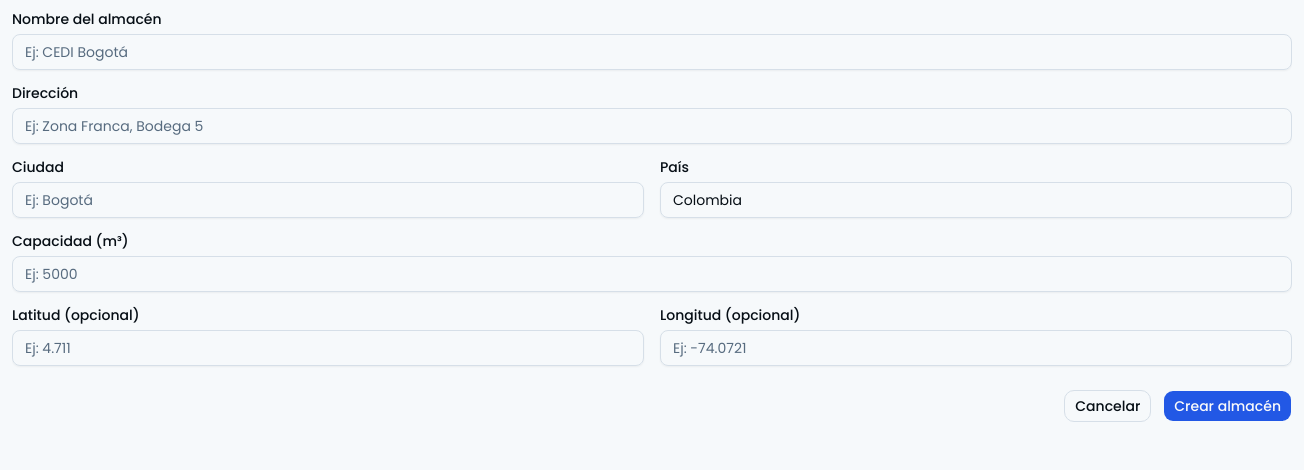
it: WarehouseForm — validación › muestra error 'La capacidad debe ser mayor a 0' con valor 0
Type "X" into the field labelled "Nombre del almacén" at (652, 52), box 12,34 -> 1292,70
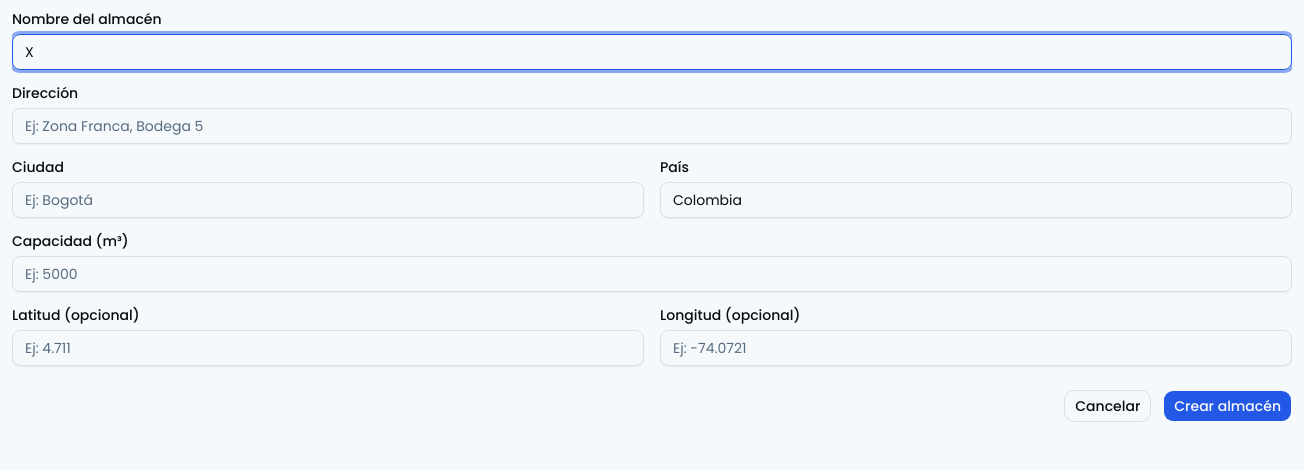
Type "X" into the field labelled "Dirección" at (652, 126), box 12,108 -> 1292,144
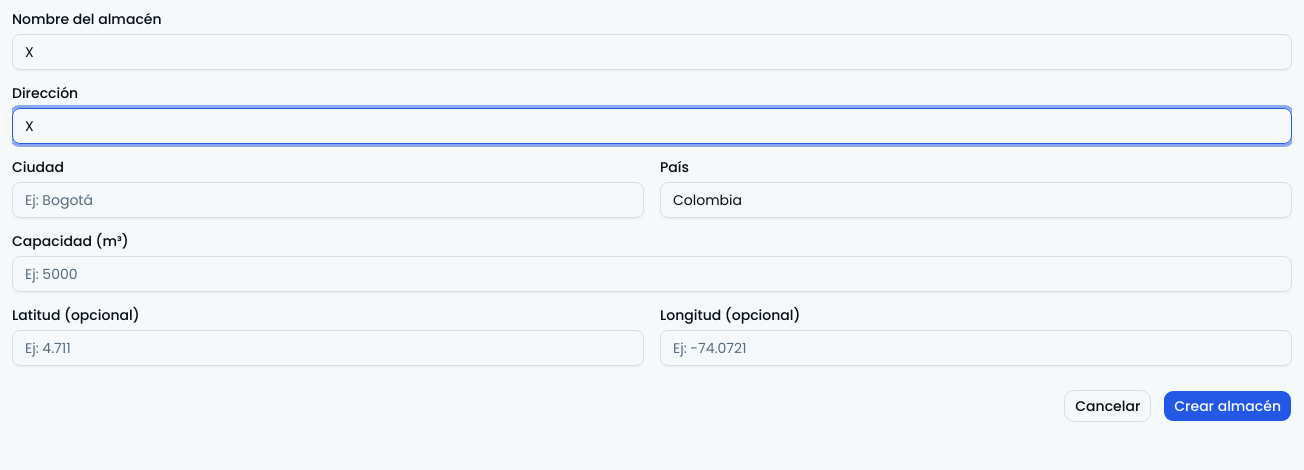
Type "X" into the field labelled "Ciudad" at (328, 200), box 12,182 -> 644,218
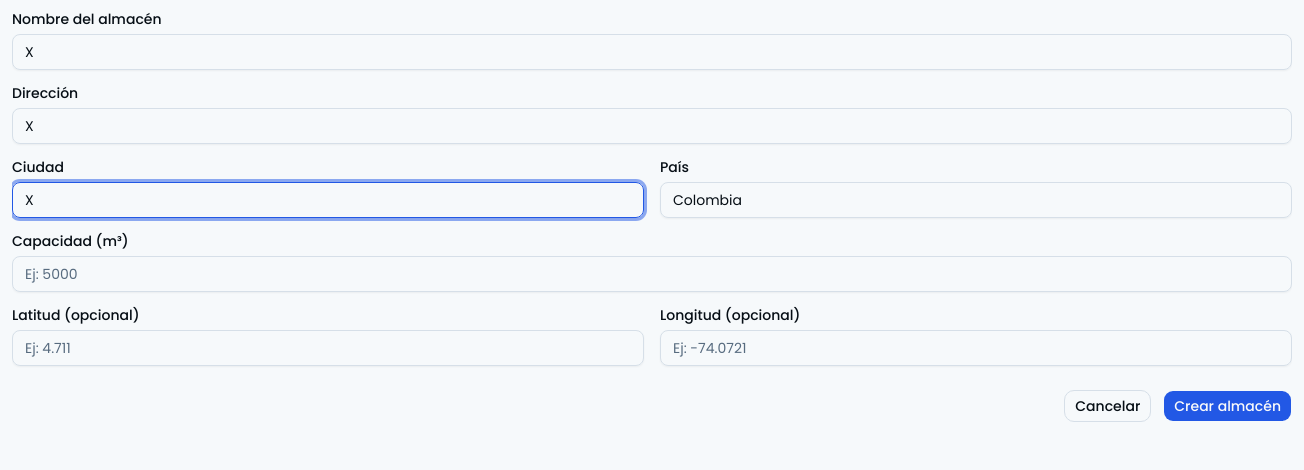
Type "0" into the number field labelled "Capacidad (m³)" at (652, 274), box 12,256 -> 1292,292
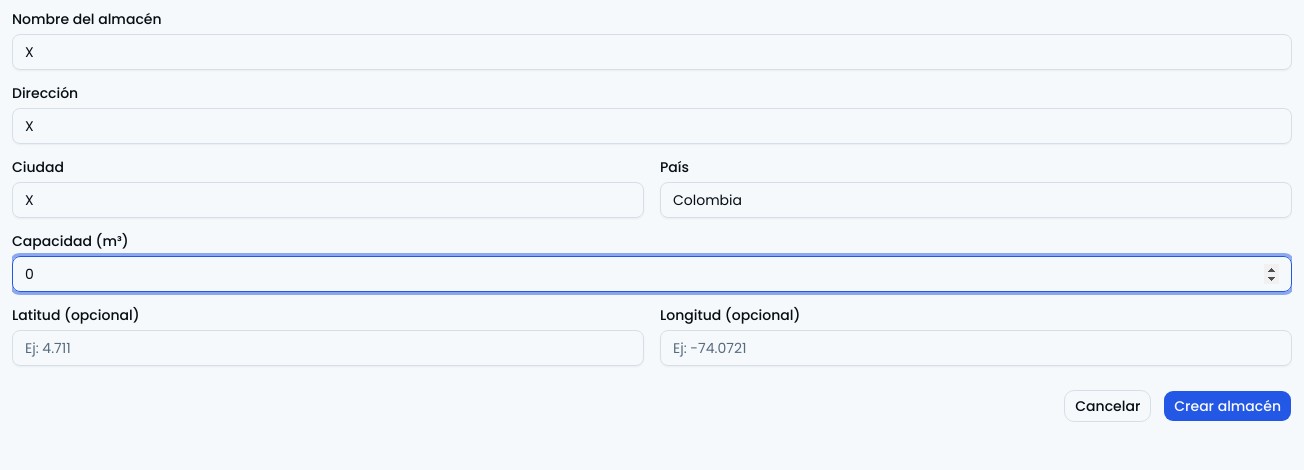
Click the button "Crear almacén" at (1228, 406), box 1163,390 -> 1292,422
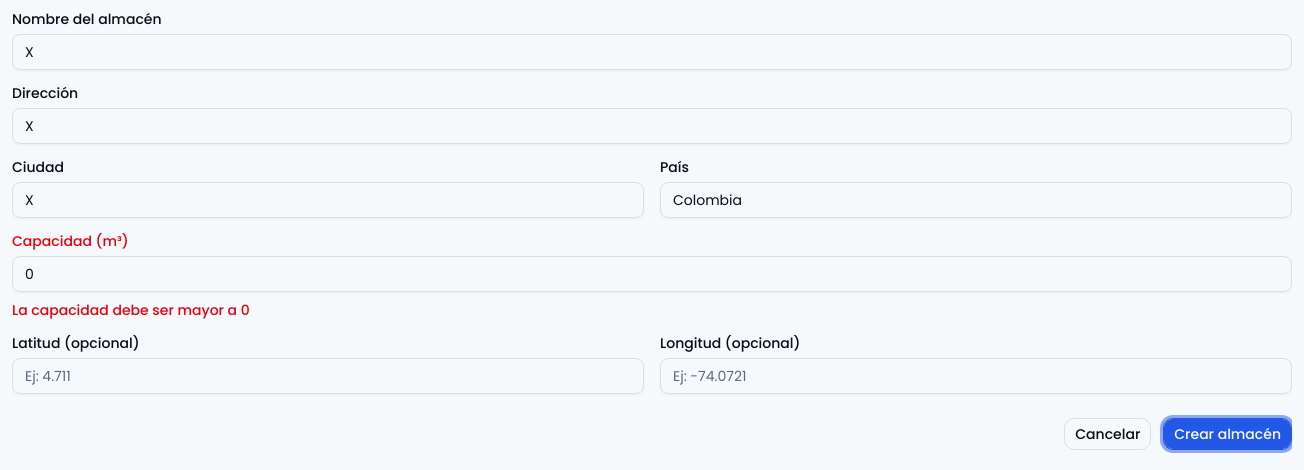
expect the text "La capacidad debe ser mayor a 0" is shown: met, box 12,300 -> 250,320
